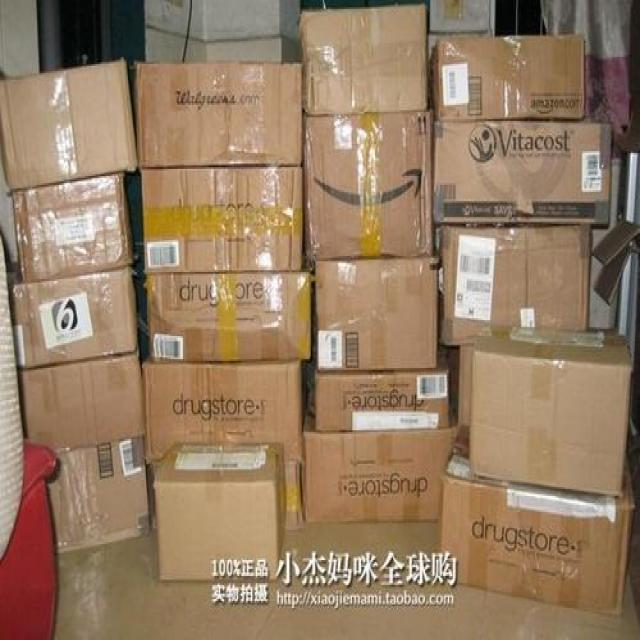box: (438, 419, 632, 619), (469, 330, 628, 498), (136, 162, 311, 281), (300, 111, 436, 261), (151, 437, 286, 582), (429, 121, 607, 226), (435, 218, 589, 338), (131, 60, 300, 169), (299, 422, 461, 522), (0, 62, 133, 182), (295, 0, 433, 112), (143, 360, 304, 456), (310, 254, 437, 373), (428, 34, 595, 122), (143, 273, 314, 357), (32, 447, 152, 554), (11, 172, 134, 272), (15, 273, 141, 365), (18, 359, 150, 441), (308, 365, 452, 425)
